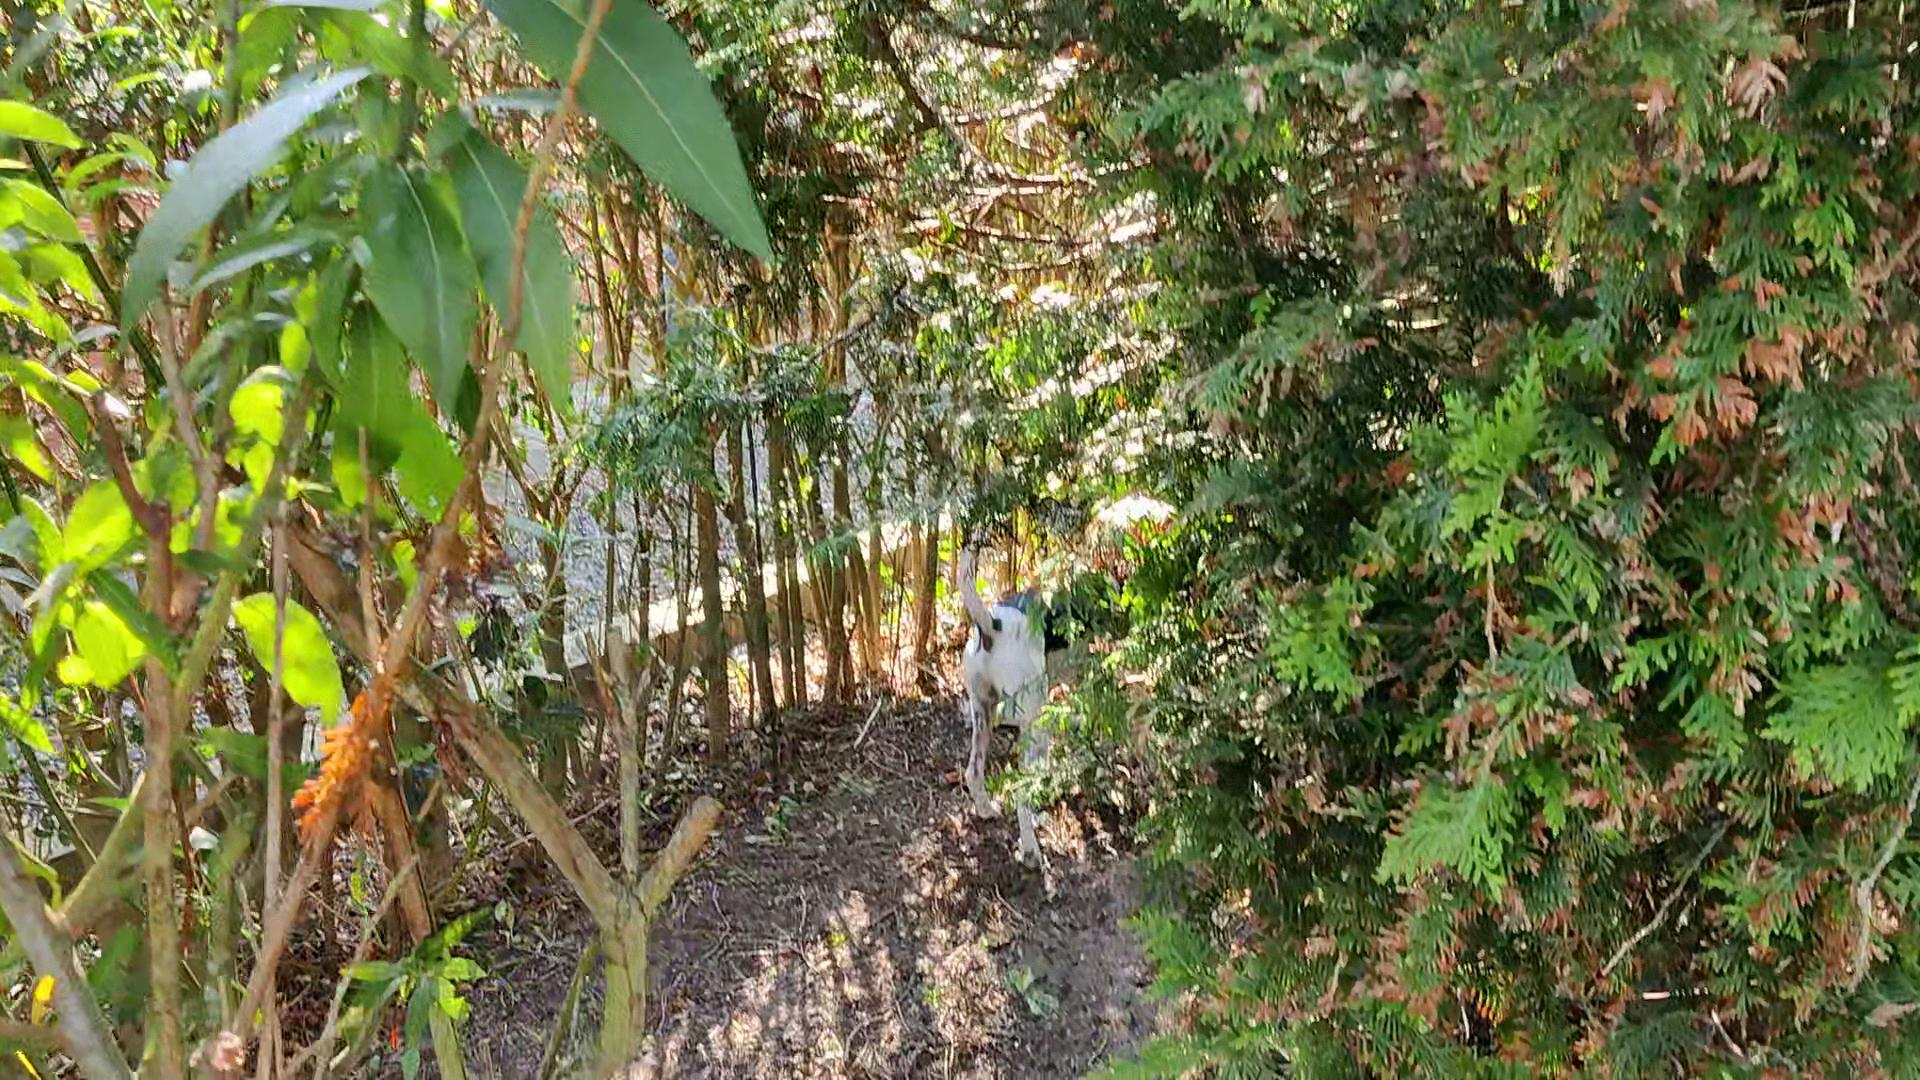Dog: (931, 524, 1124, 858)
